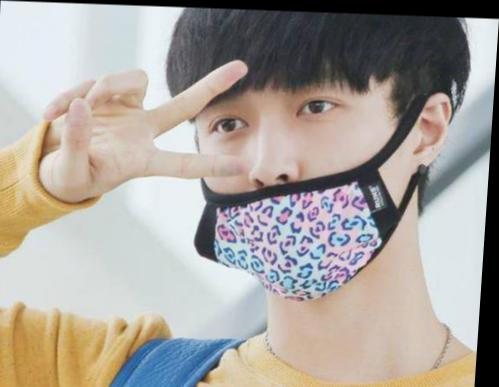WRONG: (184, 54, 432, 296)
